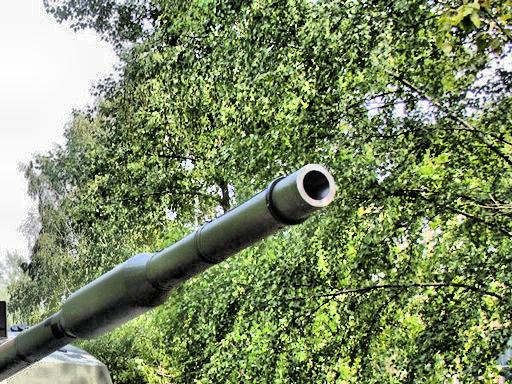tanks: (1, 167, 337, 384)
